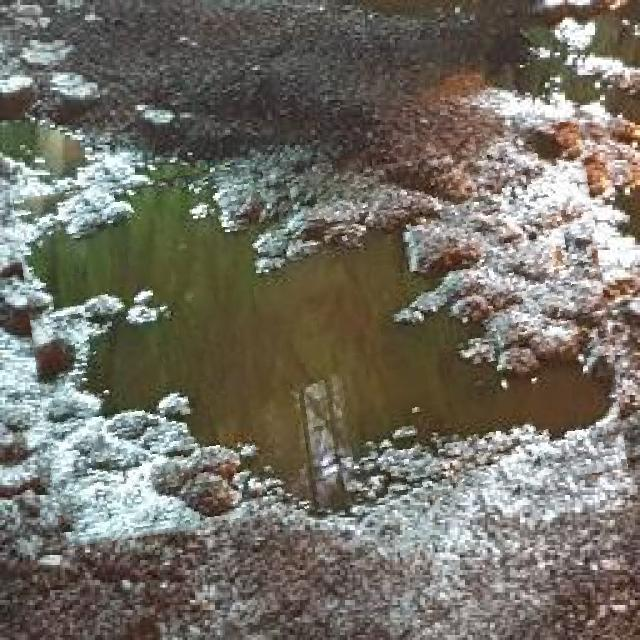puddle: (25, 141, 618, 531)
